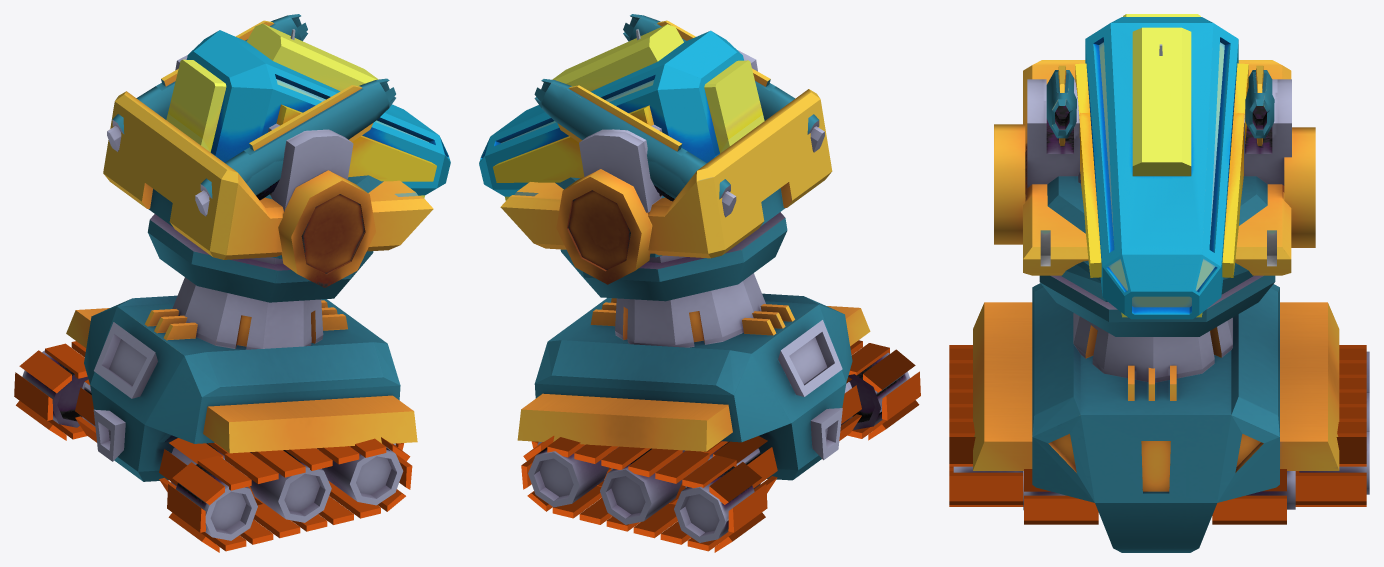
The model's file is Player_move_2_Upgrade13.obj.
3 views of the same model, side by side, from view 1: azimuth 30°, elevation 25°; view 2: azimuth 150°, elevation 25°; view 3: azimuth 270°, elevation 25° (orthographic). The views are drawn at different scales.
Visible parts, largest first — view 1: Object015, Box020, Box018, Object014, Box019, Box017, Box016; view 2: Object015, Box019, Box018, Object014, Box020, Box016, Box017; view 3: Object015, Box019, Box020, Object014, Box017, Box016, Box018, Box009.
Part boxes in pixels (x1,y1,x2,y2): Object015: (66, 23, 450, 481); Box020: (167, 437, 412, 552); Box018: (22, 350, 403, 540); Object014: (107, 14, 395, 216); Box019: (14, 341, 87, 440); Box017: (159, 438, 403, 505); Box016: (75, 379, 96, 442); Object015: (479, 24, 870, 480); Box019: (521, 436, 767, 552); Box018: (528, 352, 909, 542); Object014: (534, 14, 824, 217); Box020: (847, 340, 920, 440); Box016: (531, 436, 777, 504); Box017: (839, 377, 861, 440); Object015: (973, 14, 1339, 552); Box019: (1295, 345, 1366, 506); Box020: (949, 345, 1023, 506); Object014: (1046, 65, 1274, 145); Box017: (1024, 469, 1098, 524); Box016: (1212, 469, 1286, 524); Box018: (953, 351, 1369, 494); Box009: (1023, 471, 1295, 510).
Bounding box in the file's own units: 70.38 × 88.9 × 68.55.
6 materials, 4 textured.
